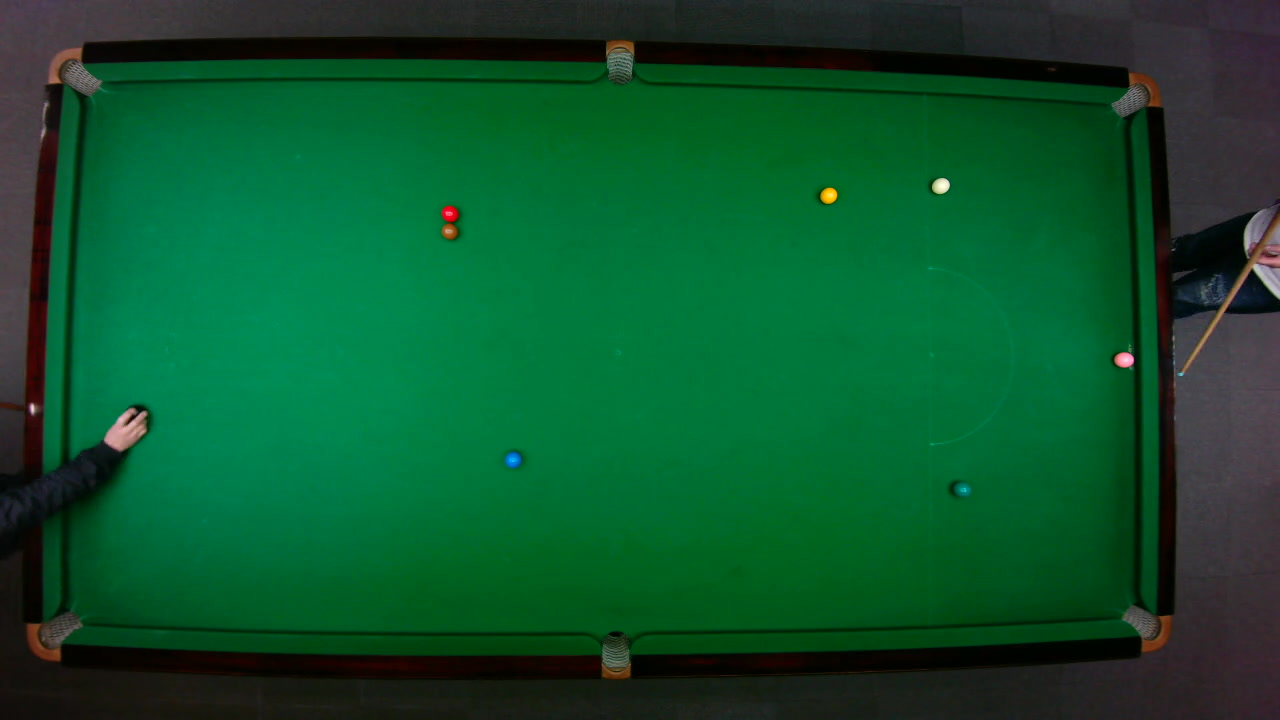bag: (25, 609, 84, 661), (45, 46, 102, 96), (1119, 603, 1172, 652), (1108, 71, 1162, 117), (600, 629, 629, 680), (605, 38, 633, 85)
blue: (503, 449, 522, 468)
brown: (440, 223, 458, 240)
cue: (1178, 205, 1279, 377)
green: (950, 480, 971, 497)
pink: (1112, 349, 1135, 368)
red: (439, 204, 459, 222)
white: (929, 176, 950, 194)
yellow: (818, 185, 838, 204)
zone: (927, 265, 1013, 445)
